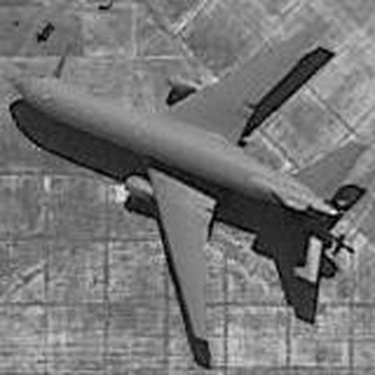airplane: (3, 11, 372, 353)
